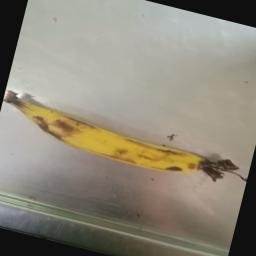Banana Overripe: (0, 79, 256, 202)
